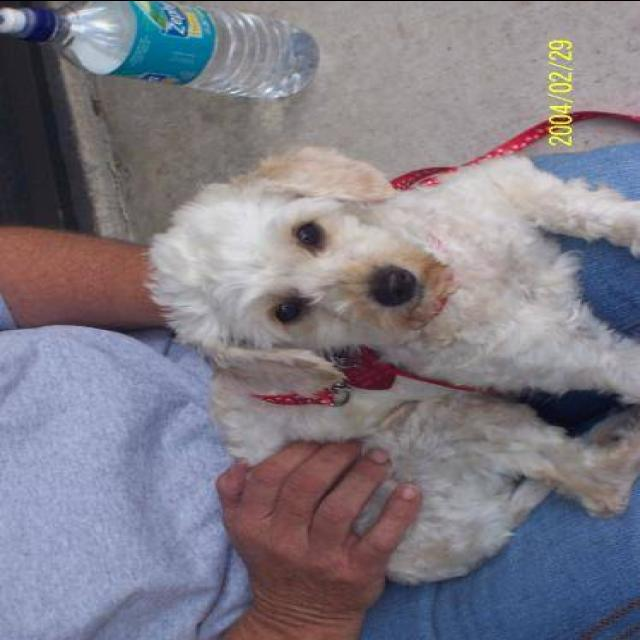dog: (138, 138, 640, 586)
